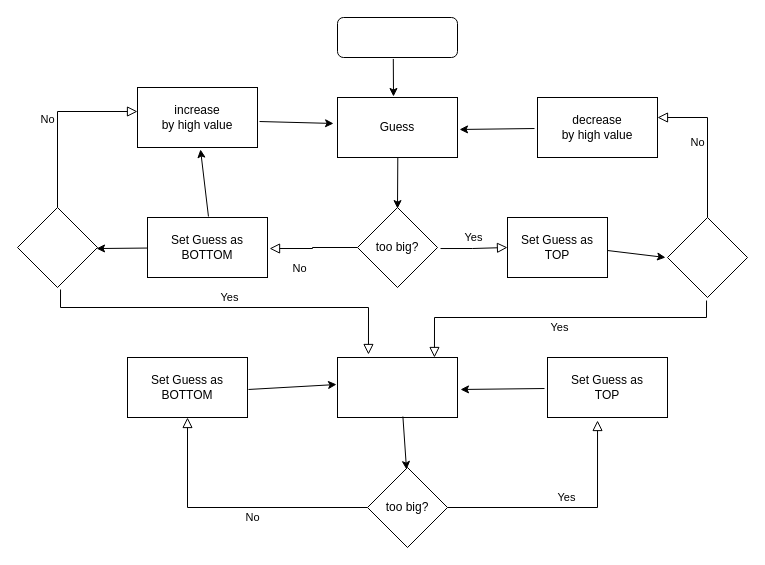
Image size: 765x565. Some labels were removed from this diagram. Each missing label, with the centre of its shape:
already have BOTTOM?: pixel 707 257
already have TOP?: pixel 57 247
Guess middle between BOTTOM and TOP: pixel 397 387
Start: pixel 397 37
